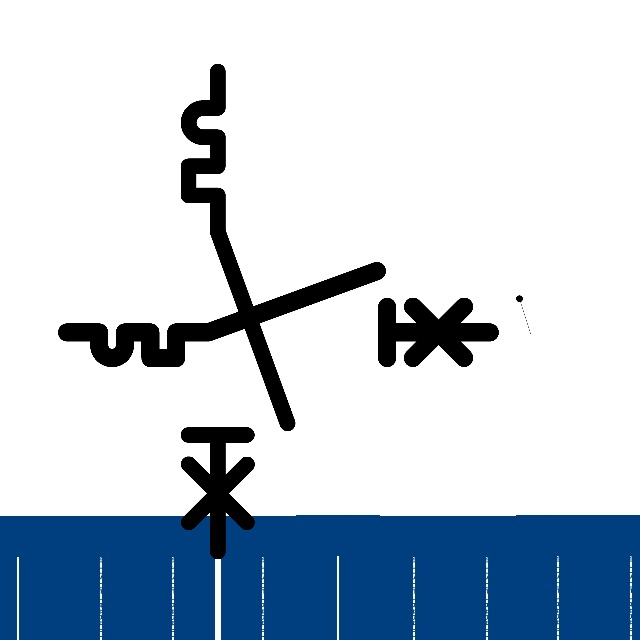interruptor_termomagnetico: (176, 59, 299, 564), (56, 260, 500, 369)
